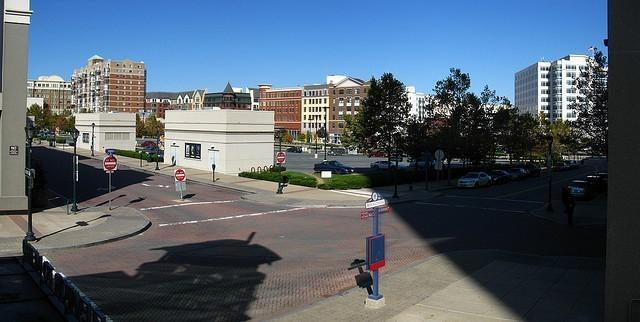car: (313, 160, 357, 174), (458, 171, 492, 189), (568, 180, 593, 198), (488, 169, 511, 186), (370, 160, 396, 171), (586, 171, 608, 182), (509, 168, 527, 180), (528, 167, 546, 178), (285, 146, 302, 154), (553, 162, 567, 171), (564, 160, 579, 168), (372, 151, 388, 158)
